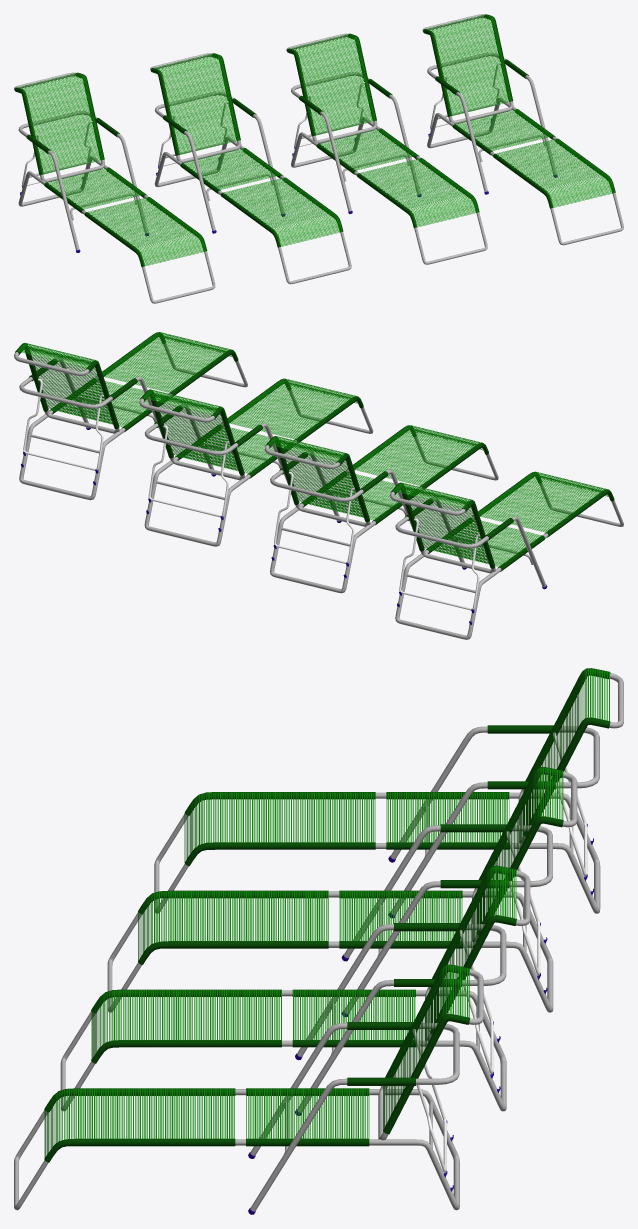
Rendered from poolChairs.fbx.
3 renders of one model, top to bottom at view 1: azimuth 30°, elevation 25°; view 2: azimuth 150°, elevation 25°; view 3: azimuth 270°, elevation 25°, orthographic. The views are drawn at different scales.
Parts seen in each view (by area): view 1: poolChair_Green, poolChair_Blue, poolChair_Yellow, poolChair_Red, poolChairRest.002, poolChairRest.003, poolChairRest_Green, poolChairRest.001; view 2: poolChair_Green, poolChair_Yellow, poolChair_Blue, poolChair_Red, poolChairRest.002, poolChairRest.001, poolChairRest_Green, poolChairRest.003, poolChairSupport, poolChairSupport.002, poolChairSupport.003, poolChairSupport.001; view 3: poolChair_Yellow, poolChair_Red, poolChair_Blue, poolChair_Green, poolChairRest.003, poolChairRest.001, poolChairRest.002, poolChairRest_Green, poolChairSupport.003.
Part boxes in pixels (box(x1,y1,x2,y2)): poolChair_Green: box(18, 111, 215, 303); poolChair_Blue: box(291, 72, 487, 264); poolChair_Yellow: box(427, 52, 623, 245); poolChair_Red: box(154, 91, 351, 284); poolChairRest.002: box(286, 33, 377, 143); poolChairRest.003: box(422, 14, 513, 124); poolChairRest_Green: box(14, 72, 104, 182); poolChairRest.001: box(150, 53, 241, 162); poolChair_Green: box(395, 471, 623, 639); poolChair_Yellow: box(19, 332, 247, 500); poolChair_Blue: box(144, 378, 373, 546); poolChair_Red: box(270, 425, 498, 593); poolChairRest.002: box(139, 389, 244, 480); poolChairRest.001: box(264, 436, 370, 526); poolChairRest_Green: box(390, 482, 495, 573); poolChairRest.003: box(14, 343, 119, 433); poolChairSupport: box(399, 518, 480, 610); poolChairSupport.002: box(148, 425, 229, 517); poolChairSupport.003: box(23, 378, 104, 470); poolChairSupport.001: box(274, 471, 354, 563); poolChair_Yellow: box(14, 1022, 459, 1214); poolChair_Red: box(107, 824, 553, 1017); poolChair_Blue: box(60, 923, 506, 1115); poolChair_Green: box(154, 725, 600, 918); poolChairRest.003: box(378, 964, 483, 1140); poolChairRest.001: box(472, 767, 577, 942); poolChairRest.002: box(425, 865, 530, 1040); poolChairRest_Green: box(518, 668, 623, 843); poolChairSupport.003: box(412, 1029, 446, 1173).
Size of the model in its own units: 3.6 by 0.9303 by 2.61.
